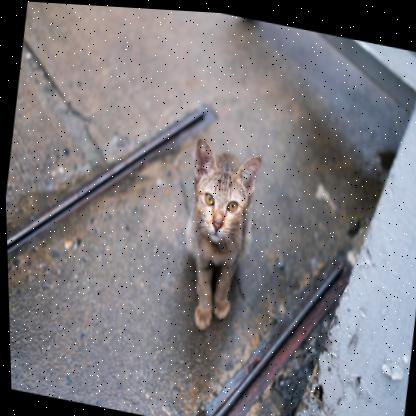cat: (173, 133, 270, 323)
